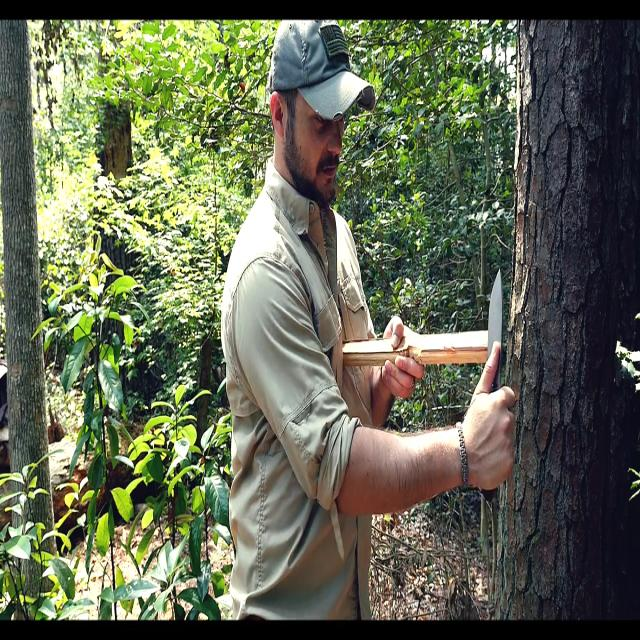knife: (486, 269, 511, 345)
